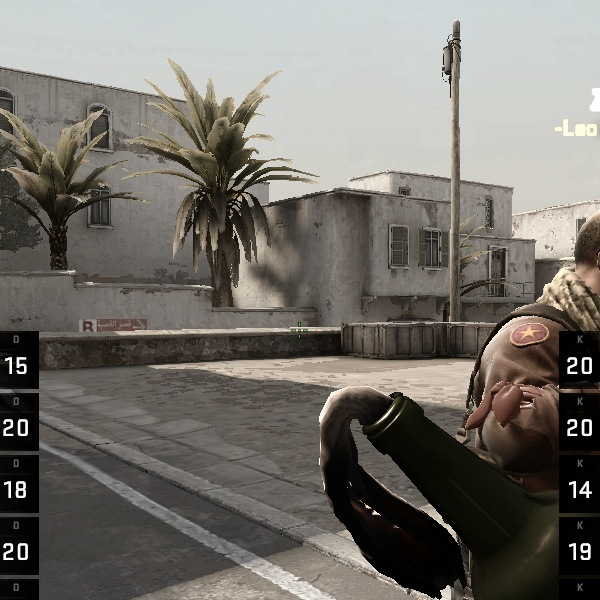t_body: (437, 206, 596, 600)
